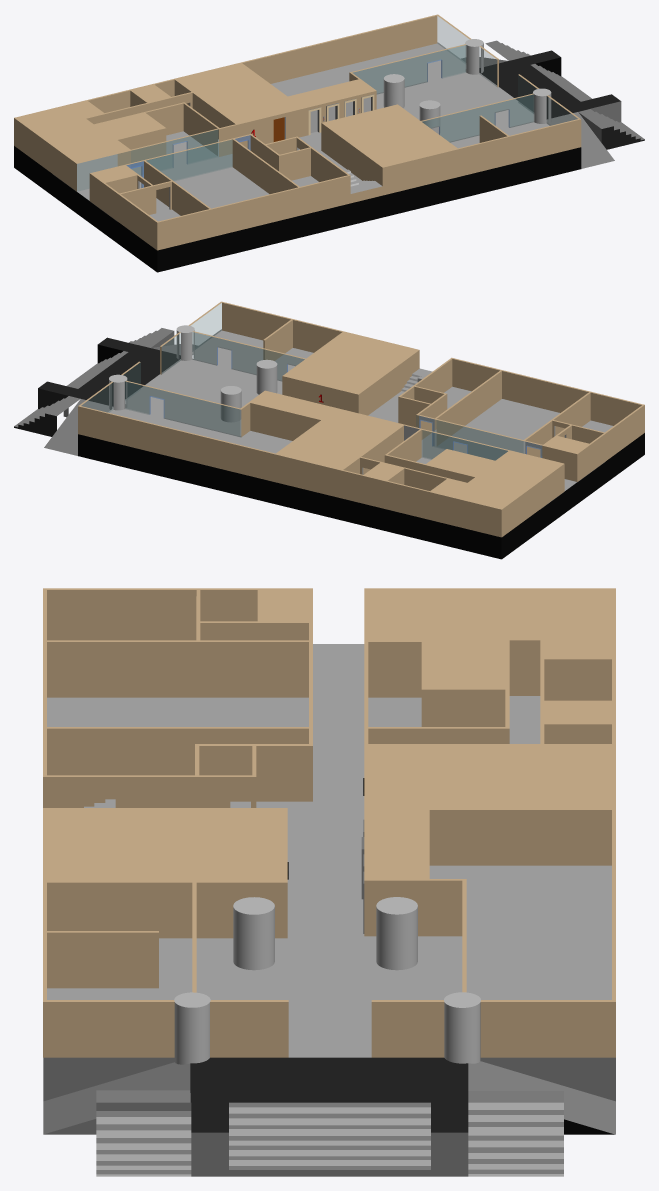
The model's file is 1F-colored.gltf.
3 views of the same model, one above another, from view 1: azimuth 30°, elevation 25°; view 2: azimuth 150°, elevation 25°; view 3: azimuth 270°, elevation 25° (orthographic). The views are drawn at different scales.
Visible parts, largest first — view 1: root; view 2: root; view 3: root.
Boxes of the visible parts, x1,y1,x2,y2 form: root: (14, 14, 644, 272); root: (14, 301, 644, 559); root: (43, 588, 615, 1176).
Bounding box in the file's own units: 56.5 × 5.37 × 27.99.
